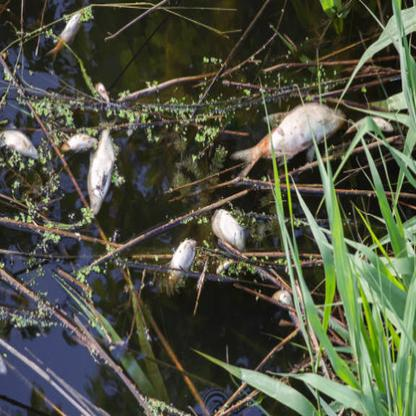deceased fish: (230, 100, 346, 176)
